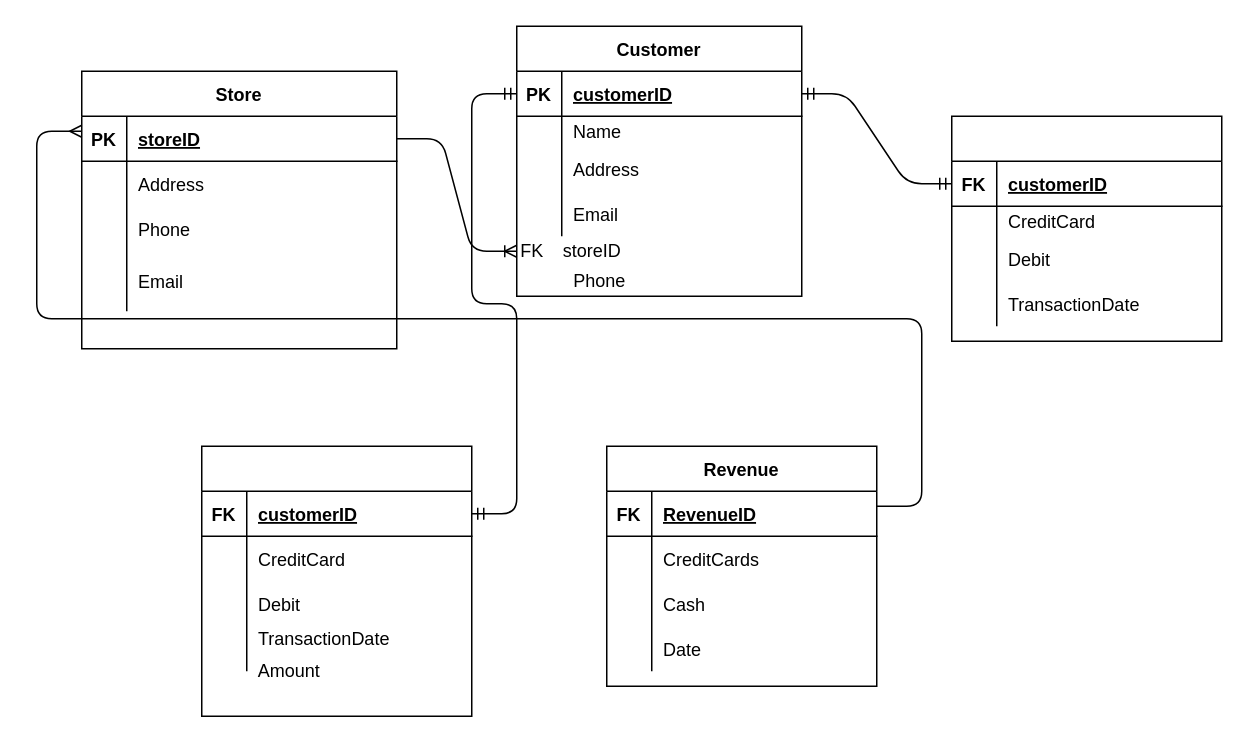
Some shapes in this 1248 by 743 pixel diagram are drawn without their labels. The shapes that lost their labels are listed below. From the top down, each one's box as (x1, y1, x2, y2) in pixels, then its label:
(950, 115, 1222, 341): Purchase in Store
(200, 445, 472, 716): Purchase Online
